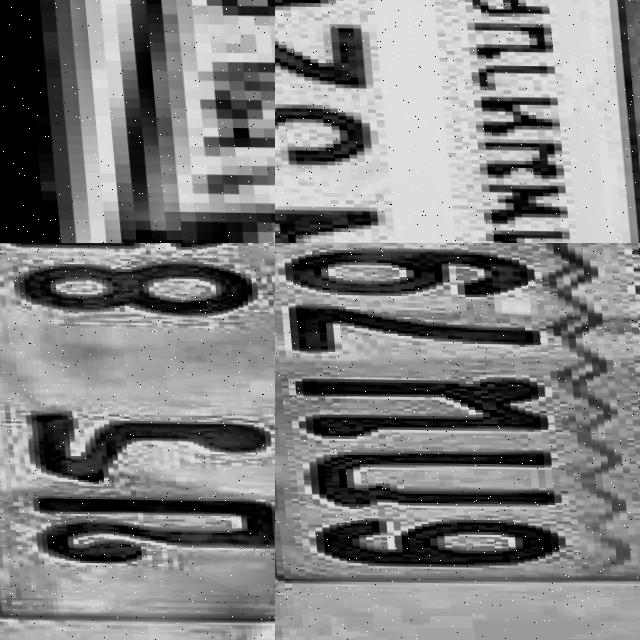license-plate: (275, 243, 640, 640), (0, 243, 275, 640), (275, 0, 640, 243), (66, 0, 275, 241)
